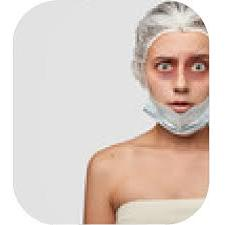mask_weared_incorrect: (151, 44, 208, 130)
